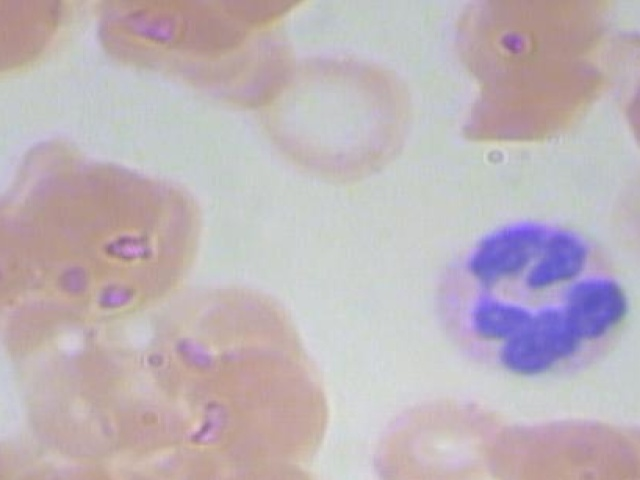RBC: (34, 157, 232, 304), (241, 48, 439, 194), (434, 36, 617, 161), (177, 335, 337, 468), (9, 329, 169, 461), (357, 383, 517, 480), (474, 399, 634, 480), (78, 0, 262, 61), (465, 0, 640, 61), (532, 396, 640, 480), (0, 191, 63, 323), (0, 0, 80, 82), (593, 35, 640, 170), (601, 149, 640, 273), (0, 441, 60, 480), (639, 396, 640, 480)
WBC: (398, 210, 640, 386)
